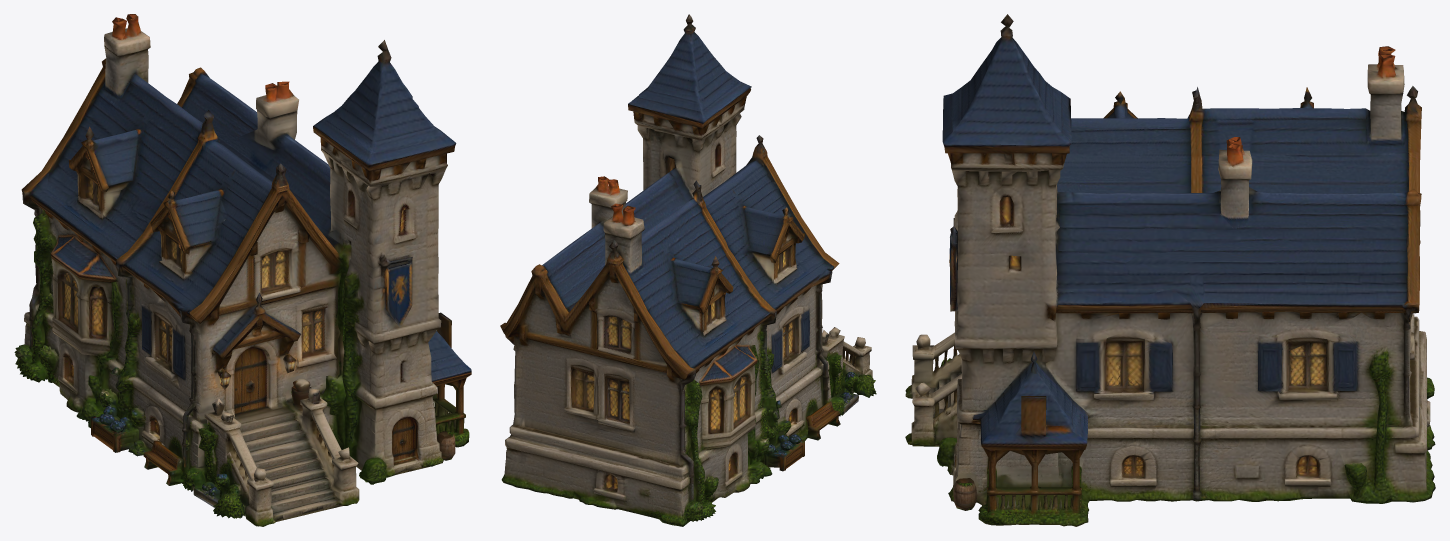
File: manor.glb
3 views of the same model, side by side, from view 1: azimuth 30°, elevation 25°; view 2: azimuth 150°, elevation 25°; view 3: azimuth 270°, elevation 25° (orthographic). The views are drawn at different scales.
Visible parts, largest first — view 1: tripo_node_8d93e120-6bf2-4dfa-bedc-0570fee04ed2; view 2: tripo_node_8d93e120-6bf2-4dfa-bedc-0570fee04ed2; view 3: tripo_node_8d93e120-6bf2-4dfa-bedc-0570fee04ed2.
Boxes of the visible parts, x1=… form: tripo_node_8d93e120-6bf2-4dfa-bedc-0570fee04ed2: x1=14, y1=14, x2=471, y2=526; tripo_node_8d93e120-6bf2-4dfa-bedc-0570fee04ed2: x1=500, y1=14, x2=876, y2=526; tripo_node_8d93e120-6bf2-4dfa-bedc-0570fee04ed2: x1=905, y1=14, x2=1435, y2=526.
Size of the model in its own units: 0.6785 by 0.9606 by 0.9778.
1 material, 1 textured.
